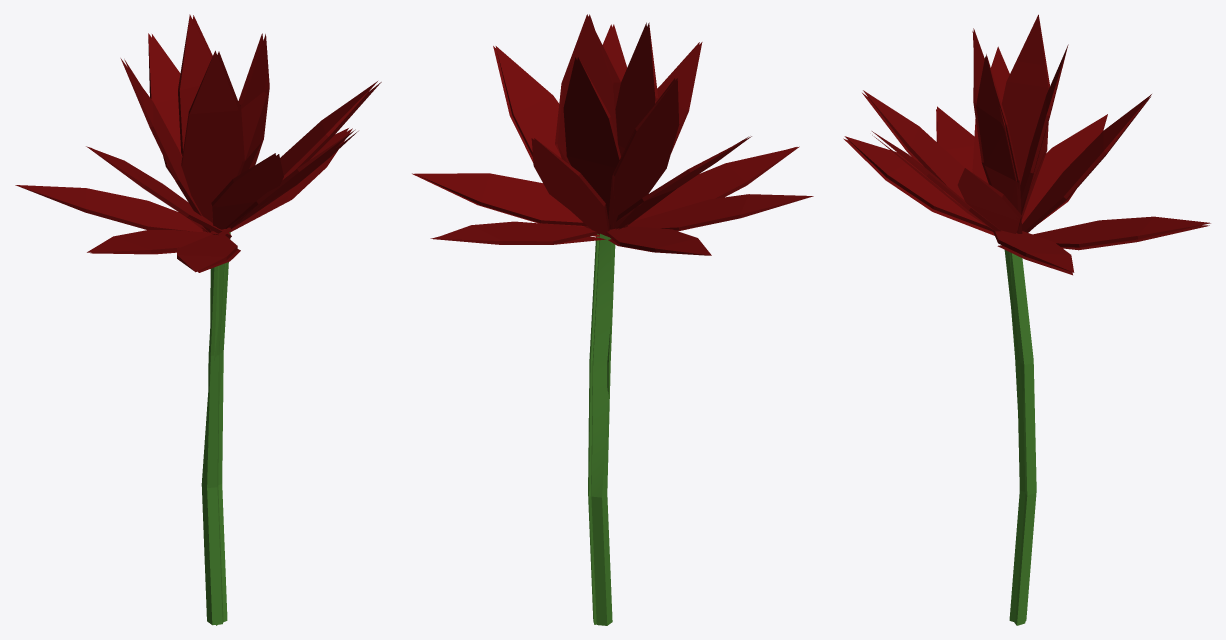
Rendered from flower2.obj.
3 views of the same model, side by side, from view 1: azimuth 30°, elevation 25°; view 2: azimuth 150°, elevation 25°; view 3: azimuth 270°, elevation 25° (orthographic). The views are drawn at different scales.
Visible parts, largest first — view 1: Plant_e_02_LOD0_Untitled.015, Plant_e_02_LOD2_Untitled.017, Plant_e_02_LOD1_Untitled.016; view 2: Plant_e_02_LOD0_Untitled.015, Plant_e_02_LOD2_Untitled.017, Plant_e_02_LOD1_Untitled.016; view 3: Plant_e_02_LOD0_Untitled.015, Plant_e_02_LOD2_Untitled.017, Plant_e_02_LOD1_Untitled.016.
Boxes of the visible parts, left/top/right/bottom form: Plant_e_02_LOD0_Untitled.015: left=15, top=14, right=377, bottom=625; Plant_e_02_LOD2_Untitled.017: left=90, top=15, right=381, bottom=625; Plant_e_02_LOD1_Untitled.016: left=181, top=129, right=355, bottom=354; Plant_e_02_LOD0_Untitled.015: left=414, top=14, right=813, bottom=625; Plant_e_02_LOD2_Untitled.017: left=412, top=14, right=796, bottom=624; Plant_e_02_LOD1_Untitled.016: left=541, top=82, right=745, bottom=244; Plant_e_02_LOD0_Untitled.015: left=844, top=14, right=1210, bottom=622; Plant_e_02_LOD2_Untitled.017: left=843, top=17, right=1209, bottom=625; Plant_e_02_LOD1_Untitled.016: left=958, top=153, right=1037, bottom=360.
Bounding box in the file's own units: 0.5913 × 0.9993 × 0.5735.
